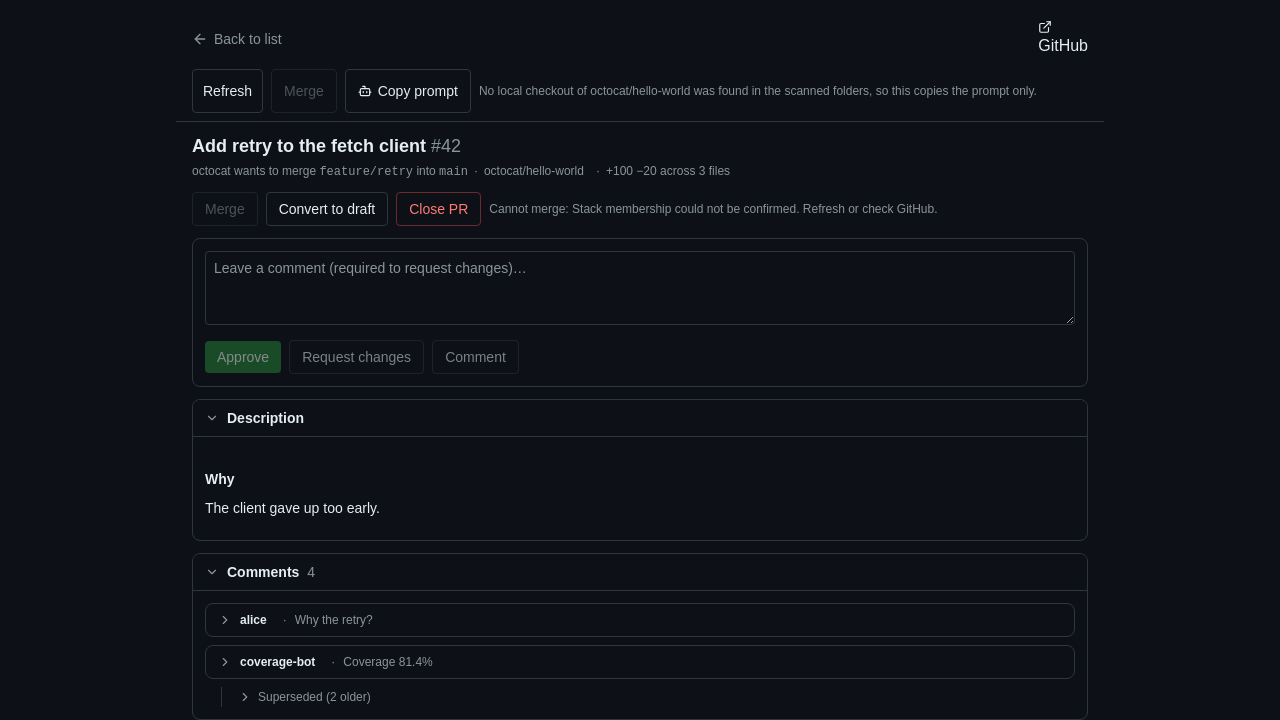
PrDetailView › superseded comments › shows the newest report in place, with the older copies collapsed under it
The image size is (1280, 720).
(page scrolled)
Expected: the text "4" is shown, [307, 562, 315, 582]
Expected: the text "80.1" is not shown
Click the button "Superseded (2 older)" at point(304, 696), box [234, 686, 375, 706]
(page scrolled)
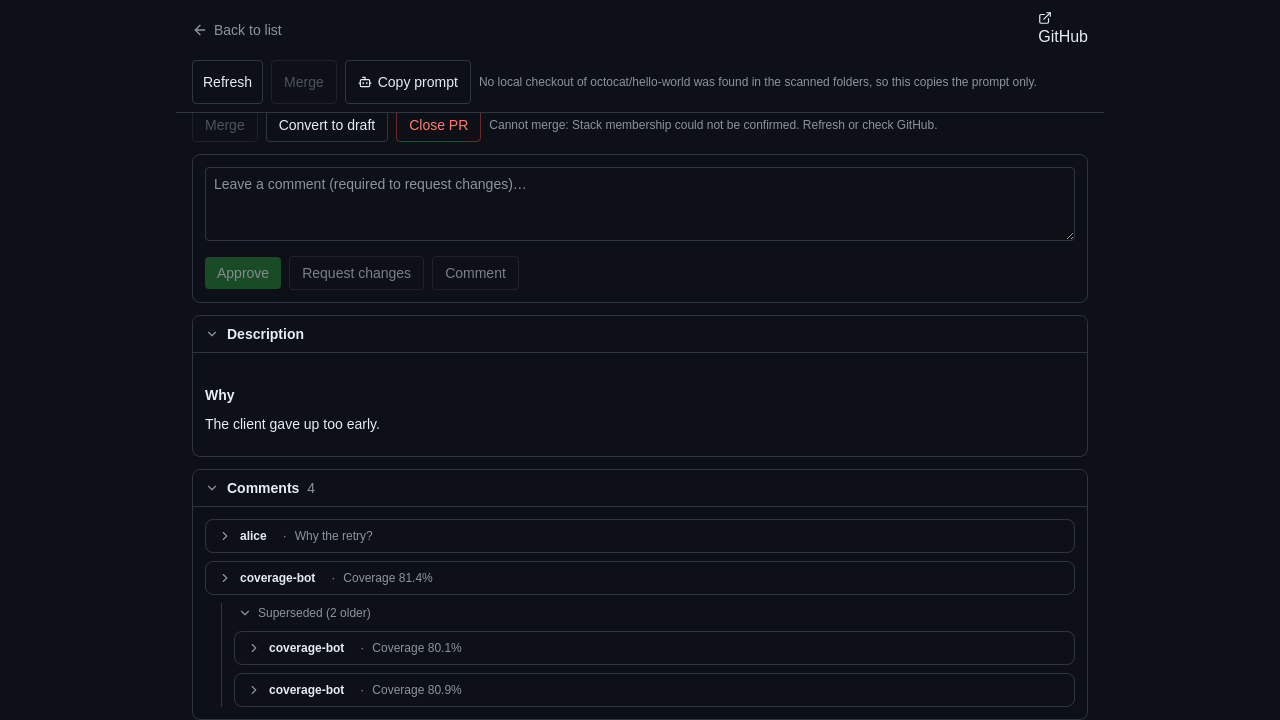
Expected: the button "Superseded (2 older)" is expanded, [234, 602, 375, 622]
Expected: the button "coverage-bot · Coverage 80.1%" is shown, [235, 632, 1074, 664]
Expected: the button "coverage-bot · Coverage 80.9%" is shown, [235, 674, 1074, 706]
